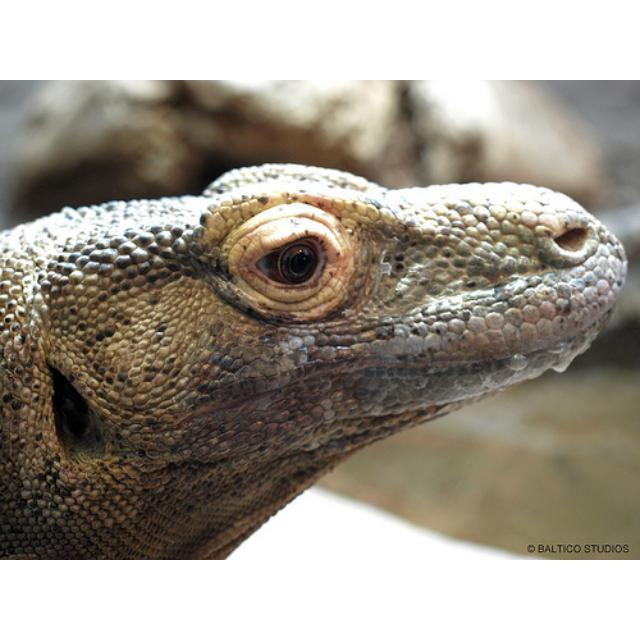KomodoDragon: (0, 157, 628, 555)
